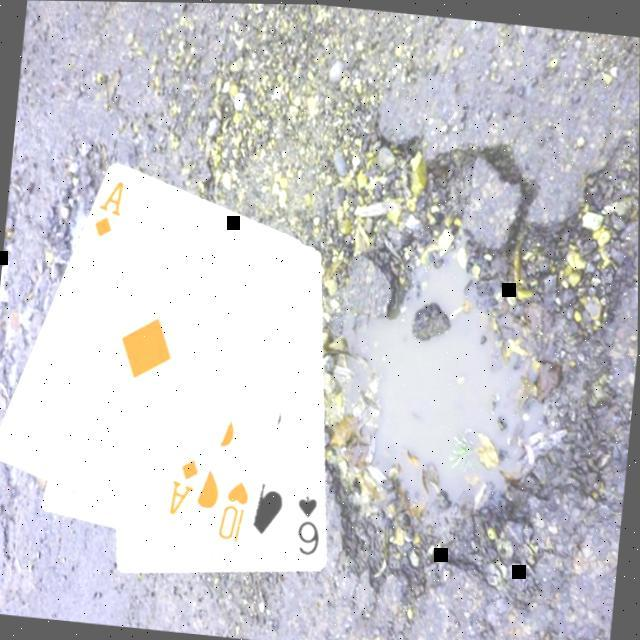10H: (214, 476, 254, 547)
6S: (290, 490, 326, 560)
AD: (164, 454, 202, 521), (89, 176, 126, 243)
